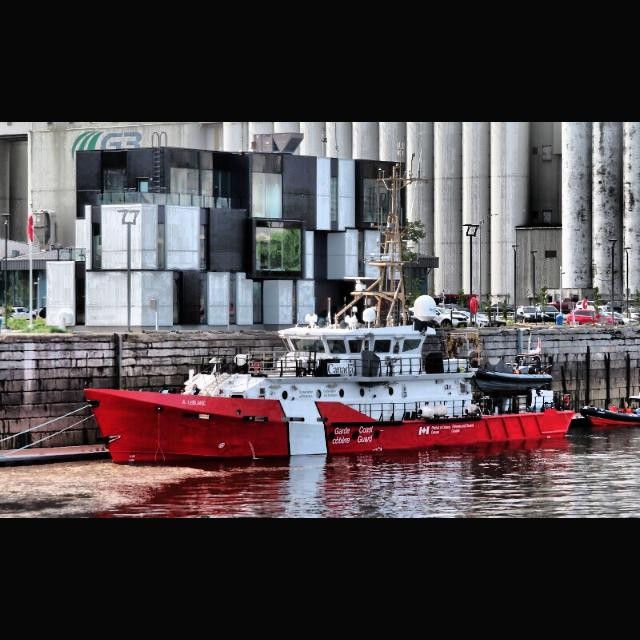patrol_vessel: (80, 294, 580, 466)
